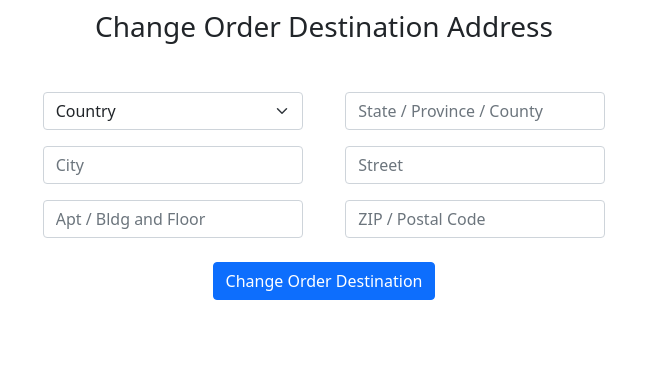
Test: Testing EditOrderDestination component › Testing the component when changes are successfully done
Note: entering state / province / county
Type "London" into the field with placeholder "State / Province / County".
click(475, 111); type("London")  # box [345,92,605,130]
Note: entering city
Type "London" into the field with placeholder "City".
click(173, 165); type("London")  # box [43,146,303,184]
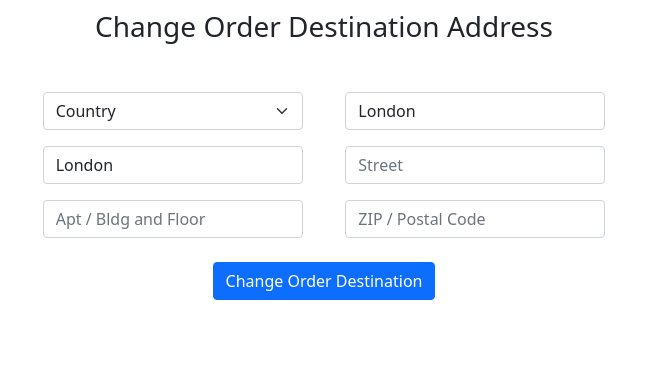
Note: entering street
Type "First Street" into the field with placeholder "Street".
click(475, 165); type("First Street")  # box [345,146,605,184]
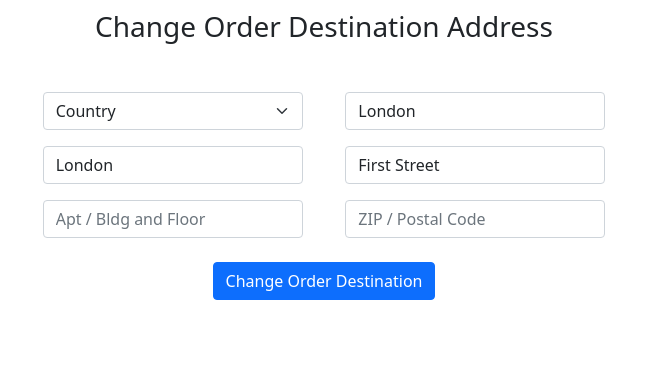
Note: entering apt / bldg and floor
Type "First bldg" into the field with placeholder "Apt / Bldg and Floor".
click(173, 219); type("First bldg")  # box [43,200,303,238]
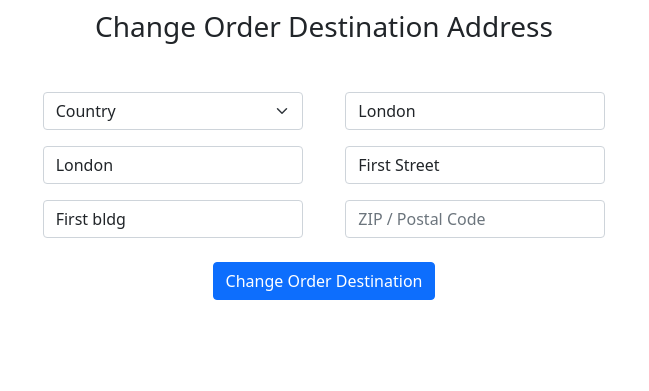
Note: entering ZIP / Postal code
Type "1234" into the number field with placeholder "ZIP / Postal Code".
click(475, 219); type("1234")  # box [345,200,605,238]
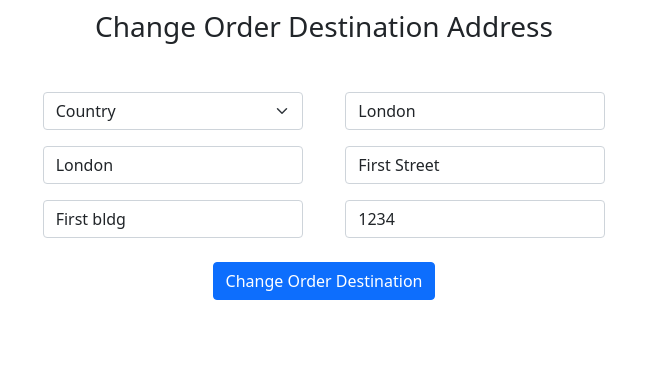
Note: selecting country
Select "United Kingdom" in the dropdown with test id "country" at (173, 111), box [43,92,303,130]
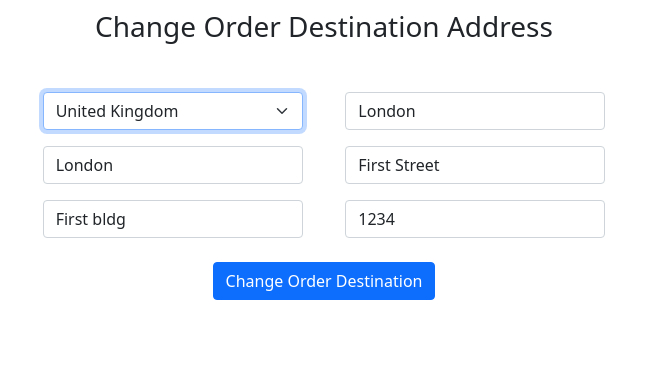
Note: clicking 'Change order destination' button
Click the button "Change Order Destination".
click(324, 281)  # box [212,262,435,300]
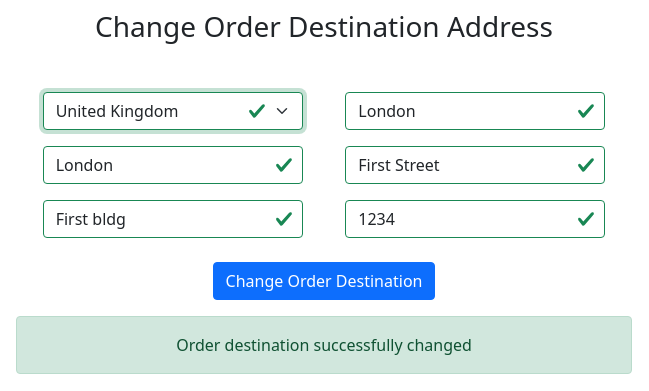
Check: the text "Order destination successfully changed" is shown, box [16,316,632,374]
